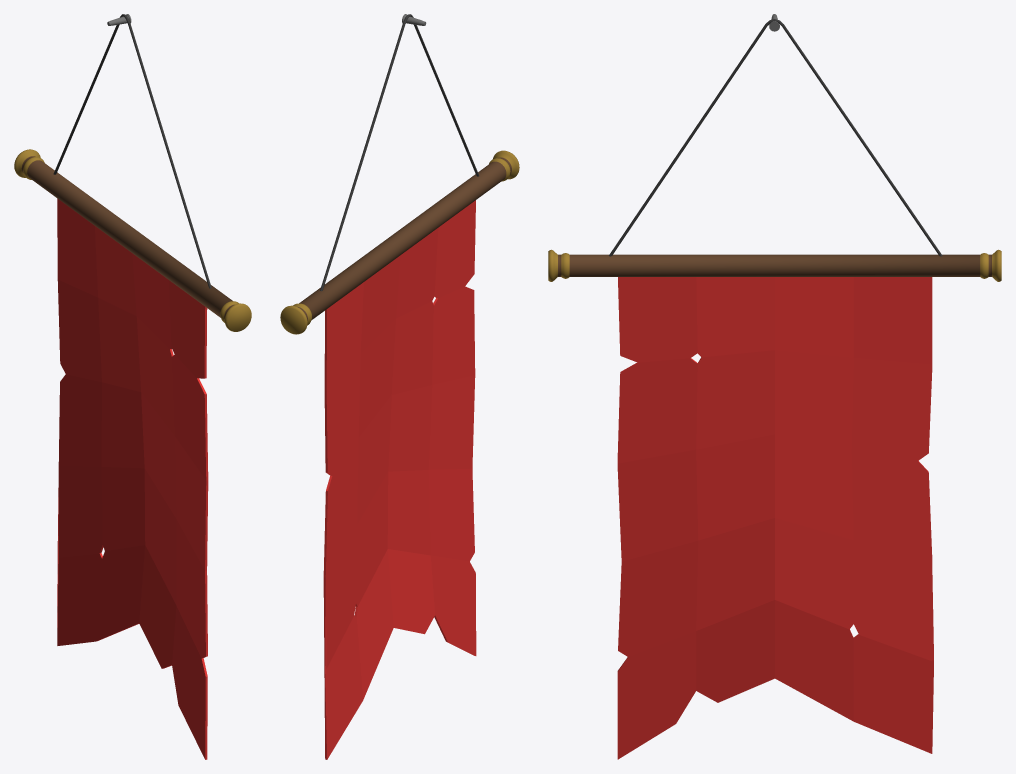
Rendered from Banner.fbx.
3 renders of one model, left to right at view 1: azimuth 30°, elevation 25°; view 2: azimuth 150°, elevation 25°; view 3: azimuth 270°, elevation 25°, orthographic. The views are drawn at different scales.
Parts seen in each view (by area): view 1: WallBanner; view 2: WallBanner; view 3: WallBanner.
Boxes of the visible parts, bbox=[...] form: WallBanner: bbox=[14, 14, 251, 759]; WallBanner: bbox=[280, 14, 519, 759]; WallBanner: bbox=[548, 14, 1001, 759].
Bounding box in the file's own units: 98.29 × 1673 × 933.
